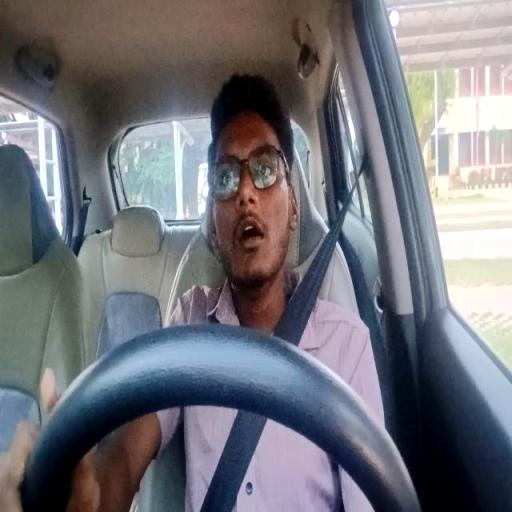yawns: (208, 75, 297, 278)
